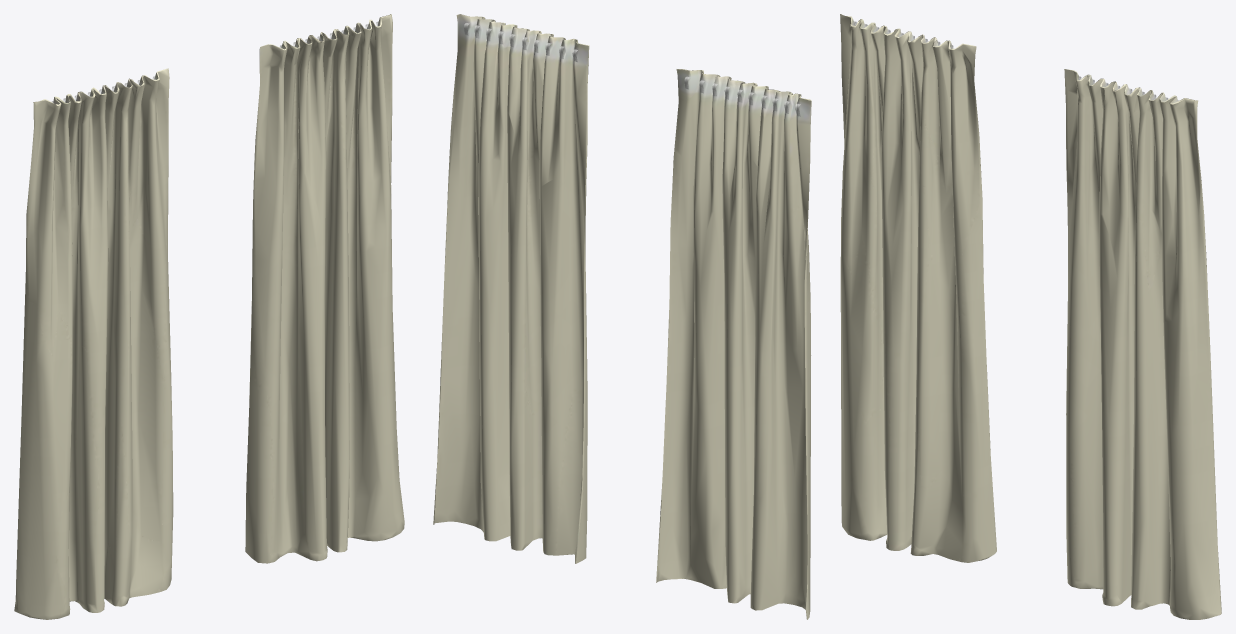
File: LR-CURTAIN-A.glb
3 views of the same model, side by side, from view 1: azimuth 30°, elevation 25°; view 2: azimuth 150°, elevation 25°; view 3: azimuth 330°, elevation 25° (orthographic).
Visible parts, largest first — view 1: ASY_LPT01_80597171_S02_NV01, ASY_LPT02_80597171_S02_NV01; view 2: ASY_LPT01_80597171_S02_NV01, ASY_LPT02_80597171_S02_NV01; view 3: ASY_LPT01_80597171_S02_NV01, ASY_LPT02_80597171_S02_NV01.
Boxes of the visible parts, bbox=[...] form: ASY_LPT01_80597171_S02_NV01: bbox=[14, 68, 173, 619]; ASY_LPT02_80597171_S02_NV01: bbox=[245, 14, 404, 563]; ASY_LPT01_80597171_S02_NV01: bbox=[656, 69, 811, 619]; ASY_LPT02_80597171_S02_NV01: bbox=[433, 14, 589, 563]; ASY_LPT01_80597171_S02_NV01: bbox=[840, 14, 996, 562]; ASY_LPT02_80597171_S02_NV01: bbox=[1064, 69, 1221, 619].
Bounding box in the file's own units: 1.96 × 2.53 × 0.2093.
4 materials, 4 textured.
